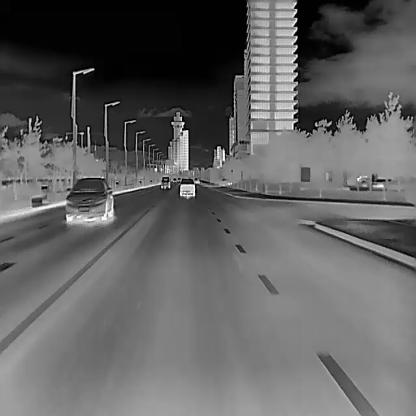car: (65, 176, 114, 223), (178, 177, 195, 197), (160, 176, 169, 188)
